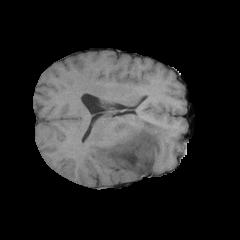glioma: (87, 114, 172, 176)
